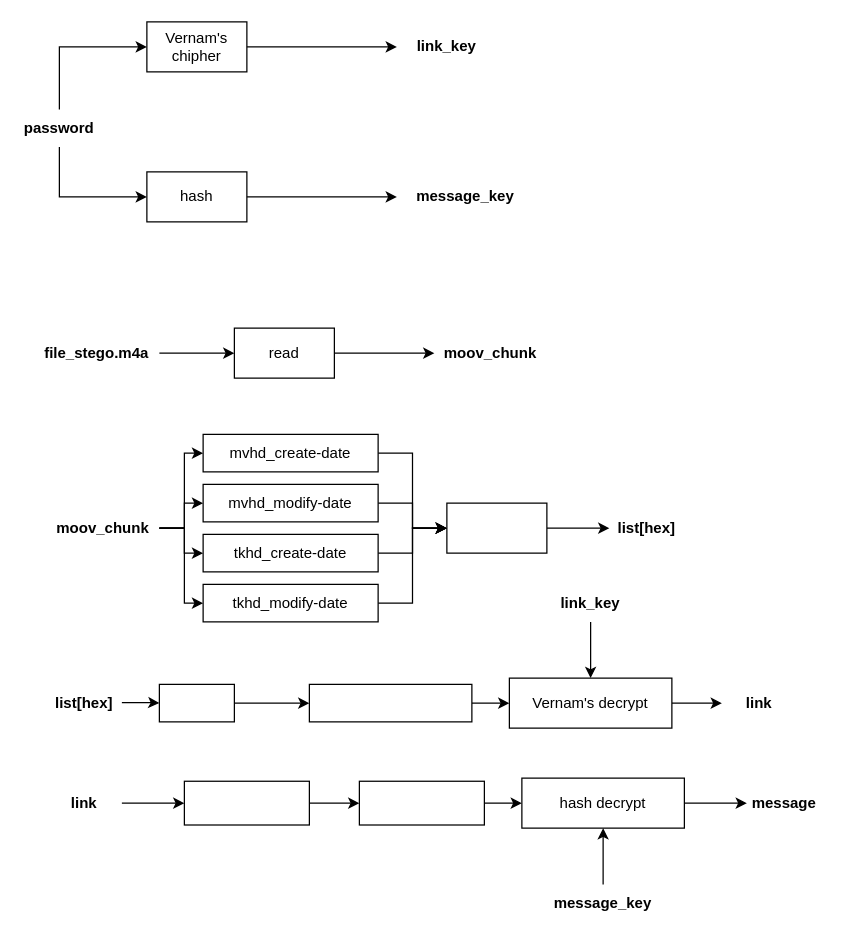
Image size: 843x944. Some labels were removed from this diagram. Each missing label, with the centre of its shape:
encrypted link: point 390,702
ex: point 196,702
get_message: point 421,802
nibble_ret: point 496,527
privatty.com: point 246,802
